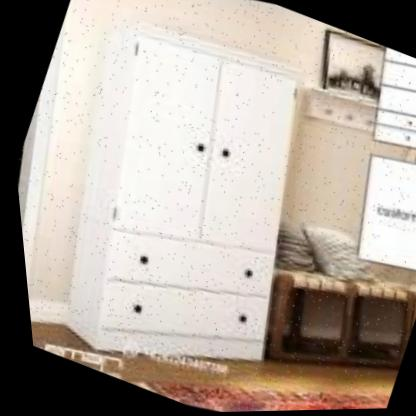Closet: (0, 0, 384, 416)
